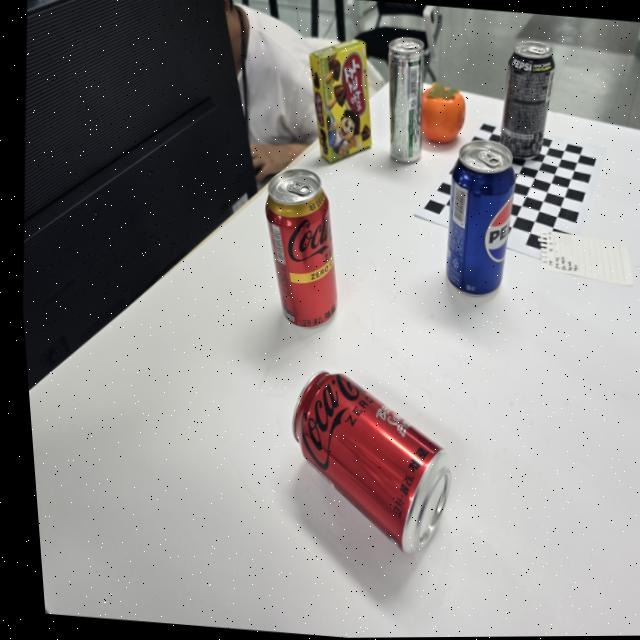can_coke_decaf: (264, 167, 338, 326)
can_coke_zero: (293, 368, 450, 553)
can_pepsi: (443, 138, 515, 294)
